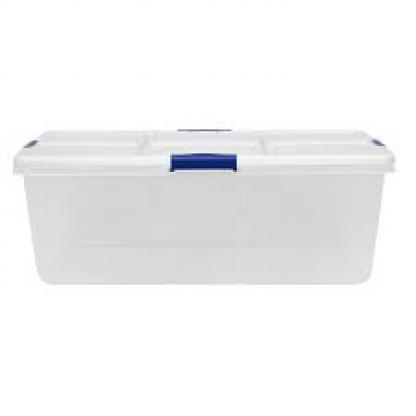plastic_box: (9, 89, 405, 314)
